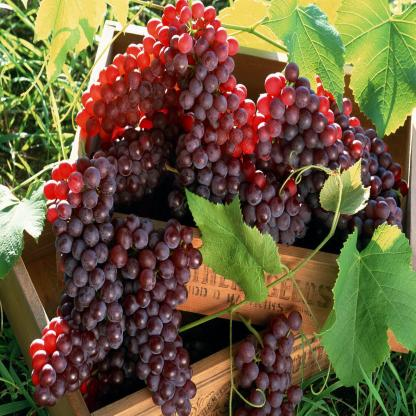--: (76, 0, 412, 263), (22, 143, 317, 416)
